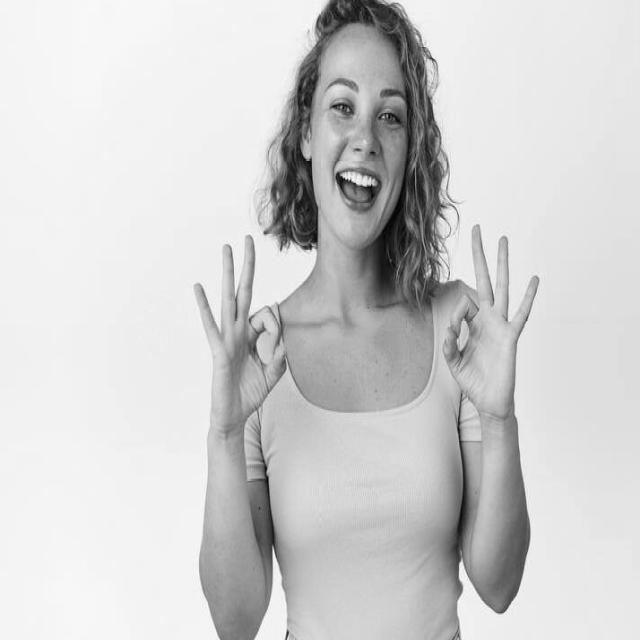perfect: (190, 227, 292, 458), (439, 215, 544, 432)
